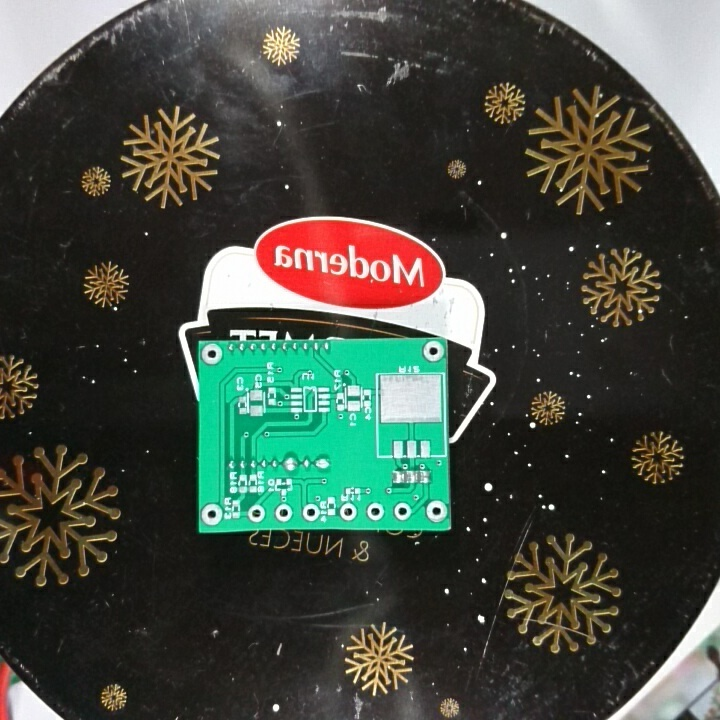F: (423, 497, 448, 525), (419, 340, 445, 366), (199, 502, 224, 529), (200, 342, 225, 367), (392, 500, 414, 524), (272, 502, 295, 524), (299, 502, 322, 523), (245, 503, 267, 524), (337, 502, 359, 522), (365, 501, 385, 522)
P: (281, 454, 299, 474), (312, 455, 333, 472)
